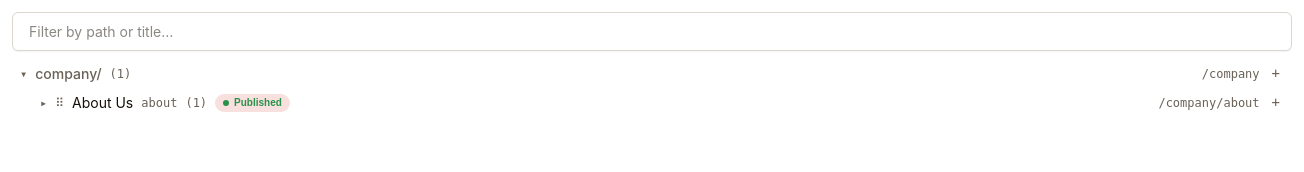
it: EntityDirectoryPanel › remembers the open/closed folder state across a data refresh (#660)
`company` is open by default → collapse it.
Click the button named "Collapse".
click(24, 74)  # box [20,64,27,82]
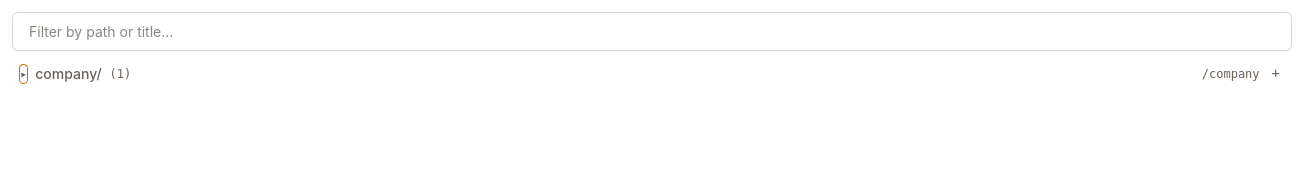
Now the link "About Us" is gone
